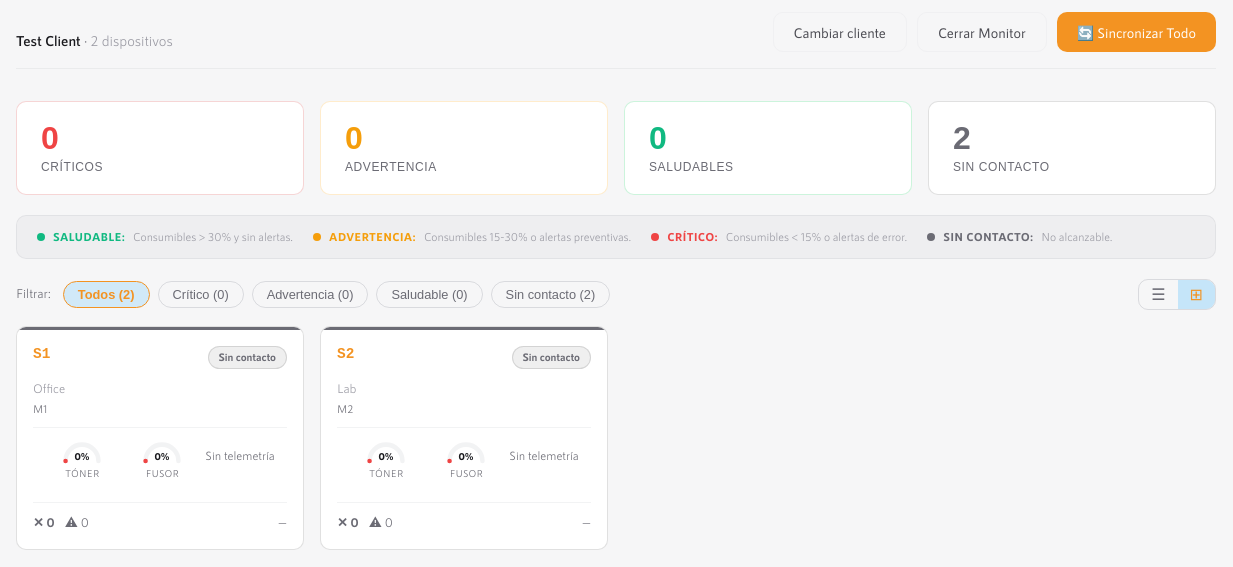
Scenario: MonitorDashboard › filters devices when clicking on KPI cards
Expected: the link "S1" is shown, [33,346,50,363]
Click the button "🔄 Sincronizar Todo".
click(1136, 32)  # box [1057,12,1216,52]
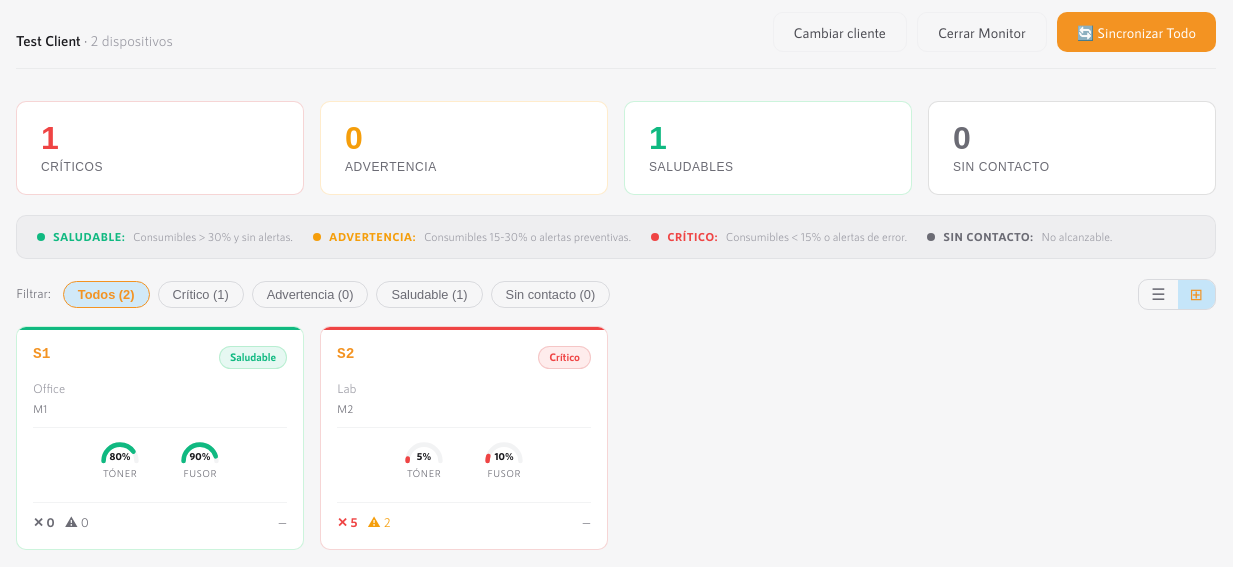
Expected: the text "Crítico" is shown, [538,346,591,369]
Click the button "1 Críticos".
click(72, 167)  # box [16,101,304,195]
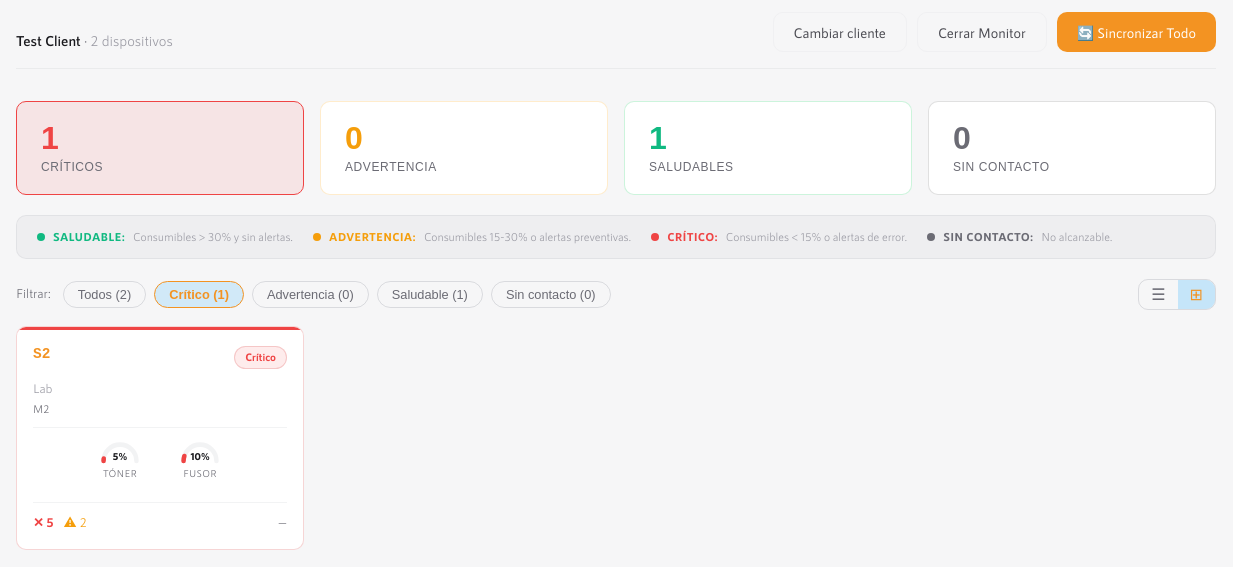
Expected: the link "S2" is shown, [33,346,50,363]
Expected: the link "S1" is gone
